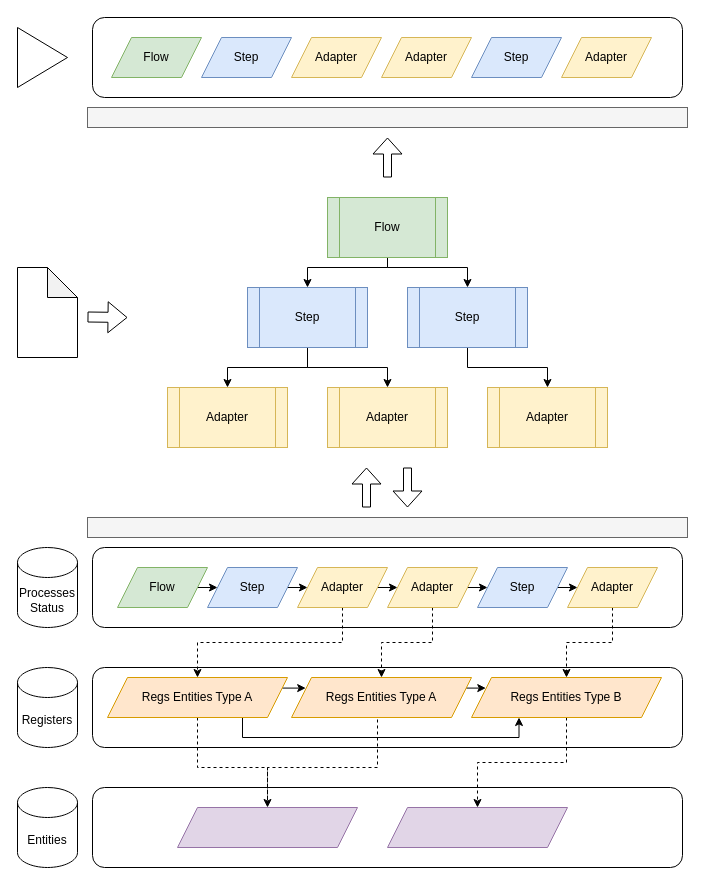
The diagram is 705 pixels wide and 885 high, and some of its shapes have lost their labels. Each missing label, with the centre of its shape:
Data Access Interface: (x=387, y=527)
Definitions: (x=47, y=312)
Entities Type A: (x=267, y=827)
Entities Type B: (x=477, y=827)
Events: (x=42, y=57)
Presenter Interface: (x=387, y=117)
